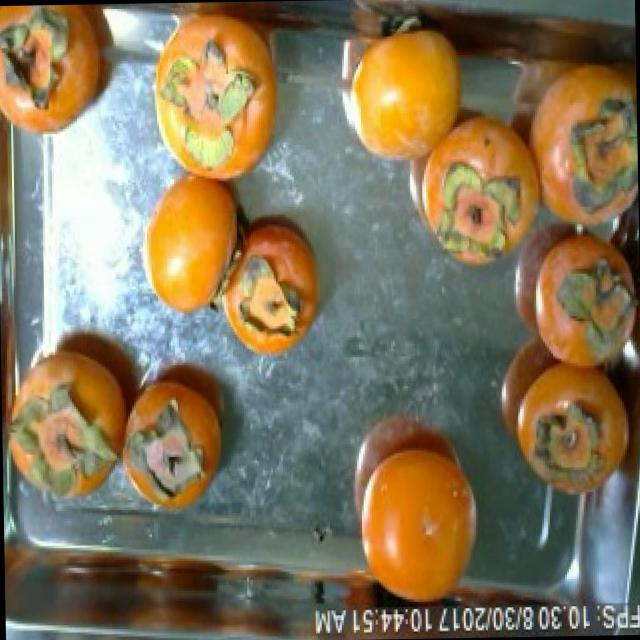Fruit: (352, 401, 499, 627), (314, 0, 483, 186), (127, 147, 258, 333), (214, 204, 333, 372)
